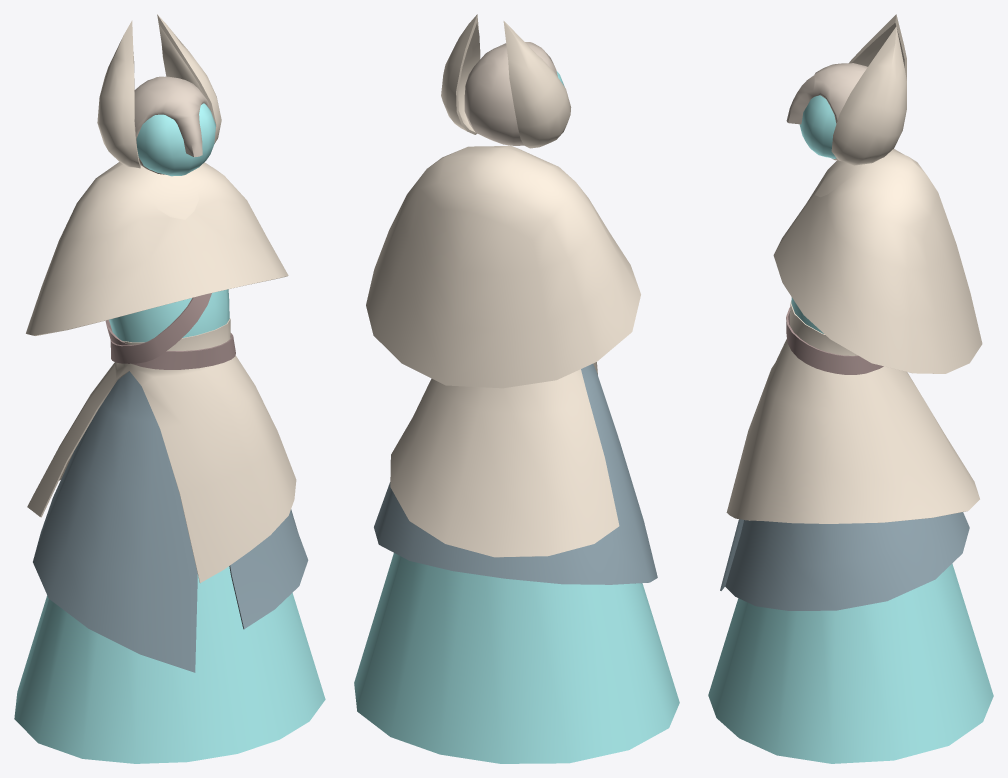
File: CharModel_B_II_first test.fbx
The picture shows the model from 3 angles, left to right: view 1: azimuth 30°, elevation 25°; view 2: azimuth 150°, elevation 25°; view 3: azimuth 270°, elevation 25°; orthographic projection. The views are drawn at different scales.
Visible parts, largest first — view 1: Legs, SkirtBottom, Shoulders, SkirtTop, Belt, Ear_R, Helmet, Face, Body, Ear_L; view 2: Legs, Shoulders, SkirtTop, SkirtBottom, Ear_R, Helmet, Ear_L; view 3: Legs, SkirtTop, Shoulders, SkirtBottom, Ear_L, Helmet, Belt, Face, Ear_R.
Boxes of the visible parts, x1=… form: Legs: x1=14, y1=566, x2=325, y2=763; SkirtBottom: x1=33, y1=371, x2=308, y2=672; Shoulders: x1=26, y1=162, x2=288, y2=335; SkirtTop: x1=27, y1=318, x2=296, y2=582; Belt: x1=105, y1=293, x2=235, y2=369; Ear_R: x1=97, y1=20, x2=140, y2=168; Helmet: x1=134, y1=76, x2=211, y2=174; Face: x1=136, y1=103, x2=215, y2=176; Body: x1=109, y1=289, x2=229, y2=342; Ear_L: x1=157, y1=14, x2=221, y2=143; Legs: x1=354, y1=553, x2=679, y2=763; Shoulders: x1=366, y1=145, x2=640, y2=388; SkirtTop: x1=390, y1=362, x2=619, y2=557; SkirtBottom: x1=374, y1=363, x2=657, y2=584; Ear_R: x1=503, y1=21, x2=571, y2=148; Helmet: x1=464, y1=42, x2=557, y2=145; Ear_L: x1=441, y1=14, x2=480, y2=134; Legs: x1=708, y1=563, x2=993, y2=763; SkirtTop: x1=726, y1=301, x2=979, y2=523; Shoulders: x1=773, y1=149, x2=982, y2=373; SkirtBottom: x1=720, y1=512, x2=969, y2=610; Ear_L: x1=831, y1=26, x2=906, y2=165; Helmet: x1=786, y1=63, x2=867, y2=161; Belt: x1=786, y1=307, x2=883, y2=374; Face: x1=799, y1=95, x2=836, y2=158; Ear_R: x1=849, y1=14, x2=906, y2=80.
Bounding box in the file's own units: 81.93 × 189 × 72.35.
